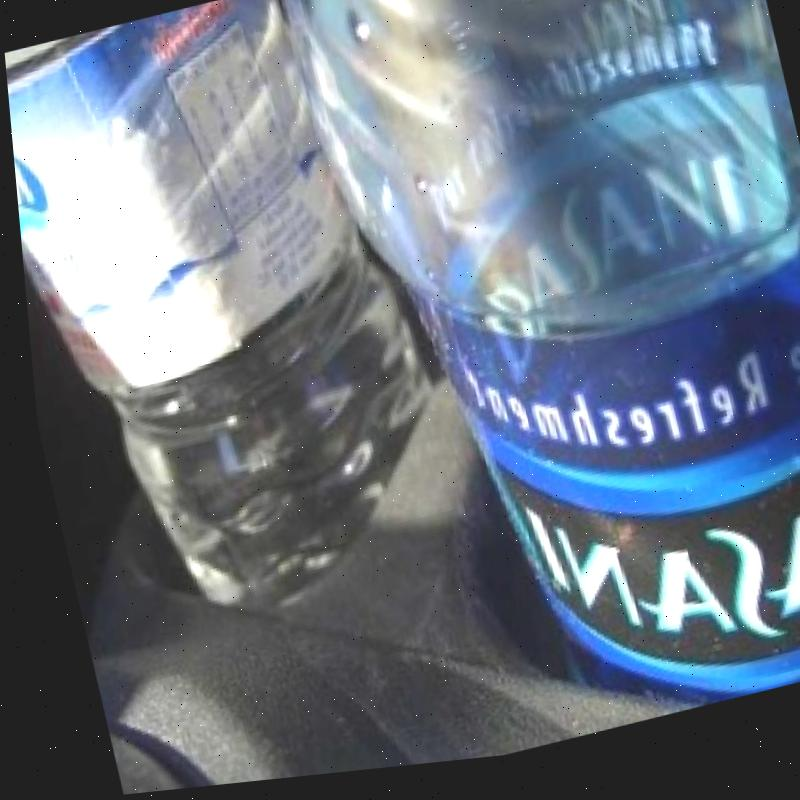botella: (273, 0, 800, 778), (0, 0, 466, 662)
